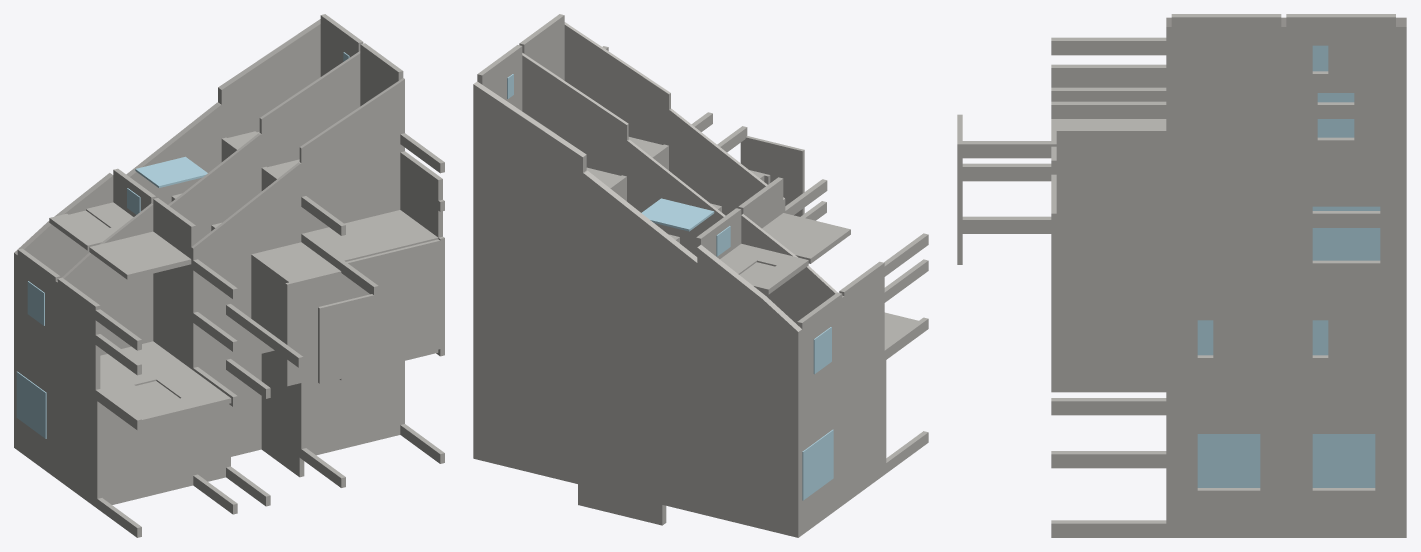
File: daata_hamlet.glb
The picture shows the model from 3 angles, left to right: view 1: azimuth 30°, elevation 25°; view 2: azimuth 150°, elevation 25°; view 3: azimuth 270°, elevation 25°; orthographic projection. The views are drawn at different scales.
Visible parts, largest first — view 1: RCC_Concrete_Slabs, Architectural_Glass; view 2: RCC_Concrete_Slabs, Architectural_Glass; view 3: RCC_Concrete_Slabs, Architectural_Glass.
Boxes of the visible parts, bbox=[...] form: RCC_Concrete_Slabs: bbox=[14, 14, 444, 537]; Architectural_Glass: bbox=[16, 52, 349, 438]; RCC_Concrete_Slabs: bbox=[473, 14, 928, 537]; Architectural_Glass: bbox=[507, 74, 833, 500]; RCC_Concrete_Slabs: bbox=[957, 14, 1406, 537]; Architectural_Glass: bbox=[1197, 45, 1380, 487].
Bounding box in the file's own units: 14.98 × 17.68 × 13.11.
